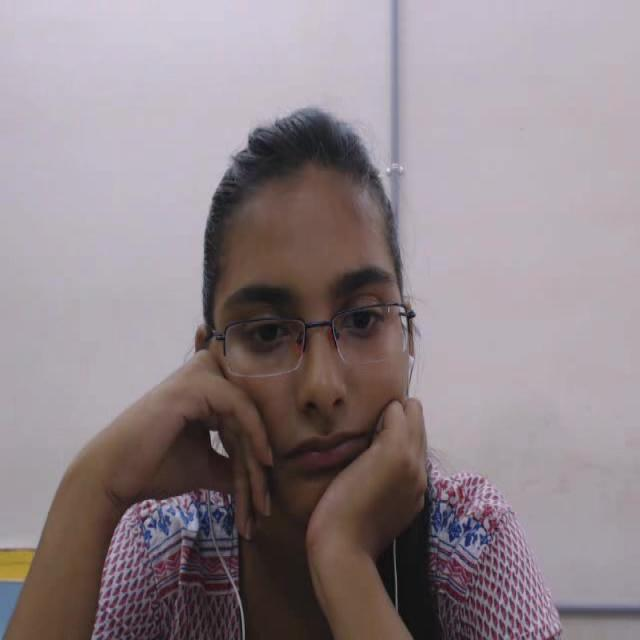Bored: (180, 74, 464, 578)
